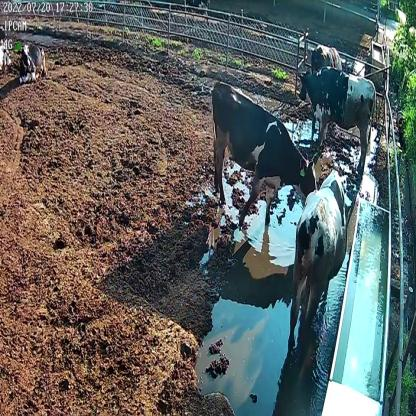cow: (210, 77, 319, 227), (287, 161, 348, 350), (298, 67, 378, 172), (17, 35, 47, 82), (308, 45, 344, 72)
